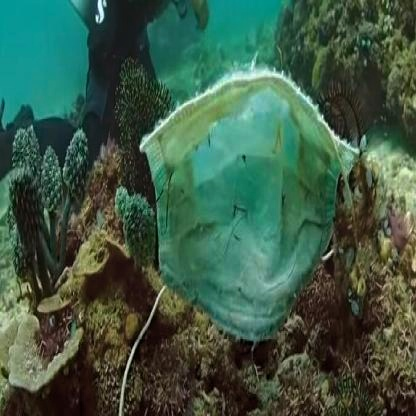Mask: (137, 64, 362, 353)
